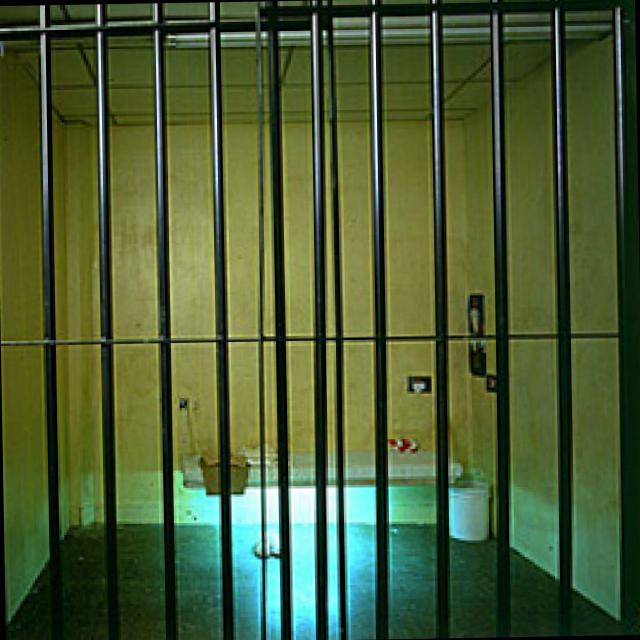bars: (0, 0, 638, 639)
berth: (177, 440, 460, 482)
bucket crop: (445, 477, 485, 537)
floor -X: (5, 508, 640, 640)
wall clock: (76, 117, 461, 517), (461, 0, 640, 627), (0, 41, 81, 620)
